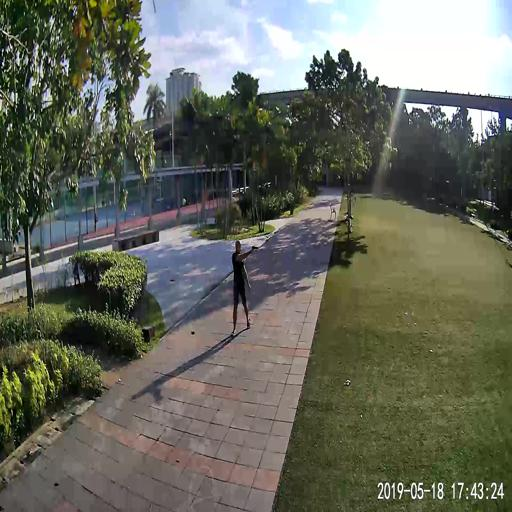pistol: (250, 244, 258, 250)
